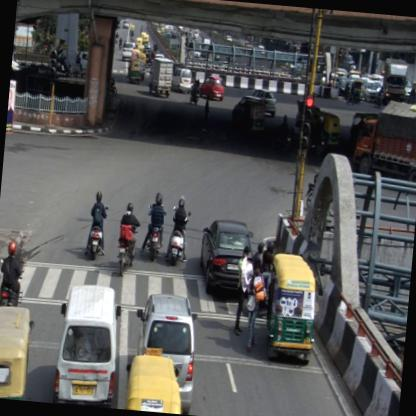car: (54, 283, 125, 408), (130, 292, 198, 414), (198, 218, 258, 300), (198, 75, 225, 101), (254, 90, 278, 116), (170, 68, 192, 94), (362, 81, 378, 104)
motorcycle: (116, 200, 142, 278), (84, 190, 110, 264), (166, 195, 192, 266), (143, 192, 167, 267), (190, 80, 200, 104)
truck: (346, 98, 415, 188), (382, 58, 410, 108), (147, 58, 172, 98)
